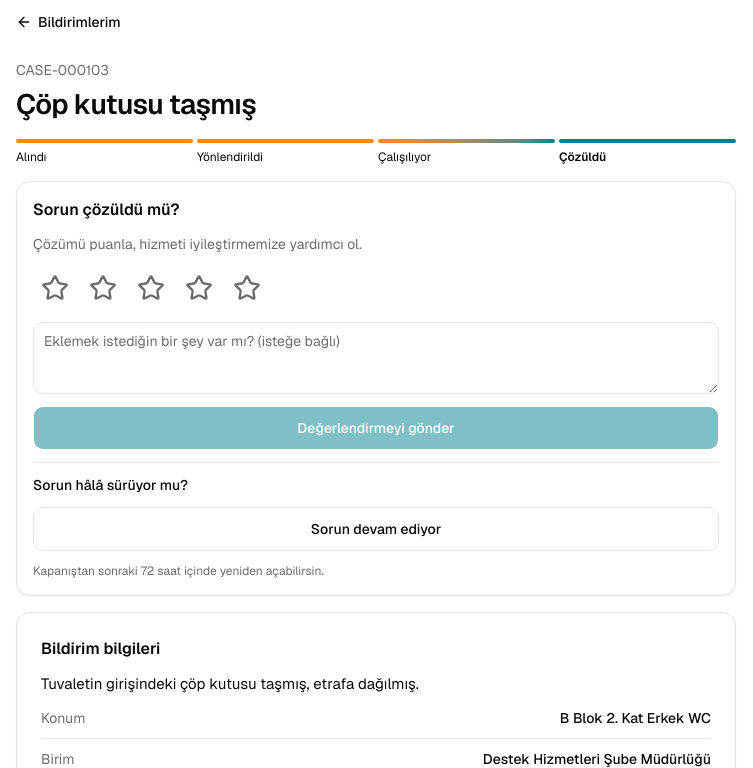
Test case: rating a closed case › sends the chosen stars and thanks the reporter
Expected: the button "Değerlendirmeyi gönder" is disabled, [33,406,719,450]
Click the radio button named "4 yıldız": (199,288) [185,274,213,302]
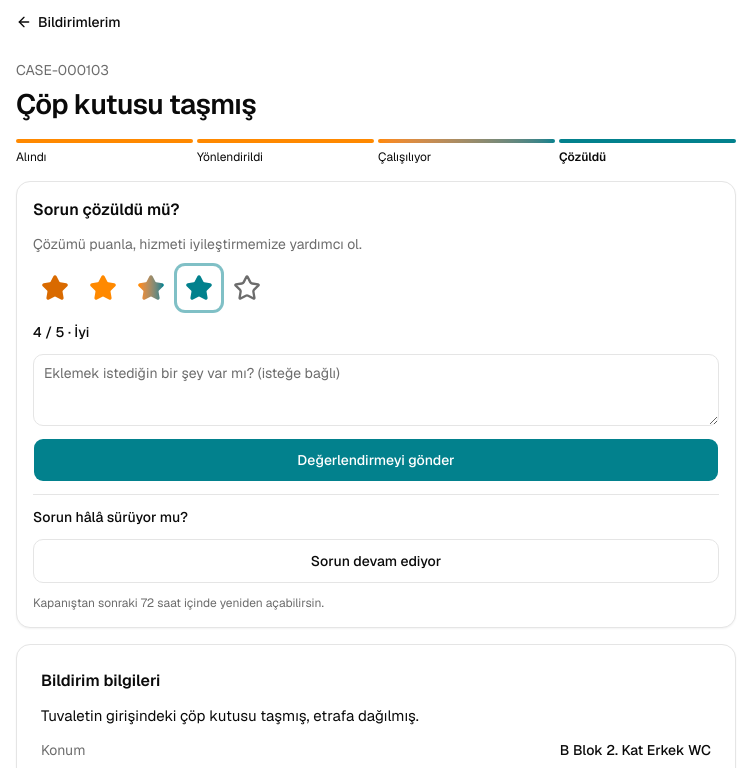
Expected: the text "4 / 5 · İyi" is shown, [33,323,89,341]
Click the button "Değerlendirmeyi gönder": (376,460) [33,438,719,482]
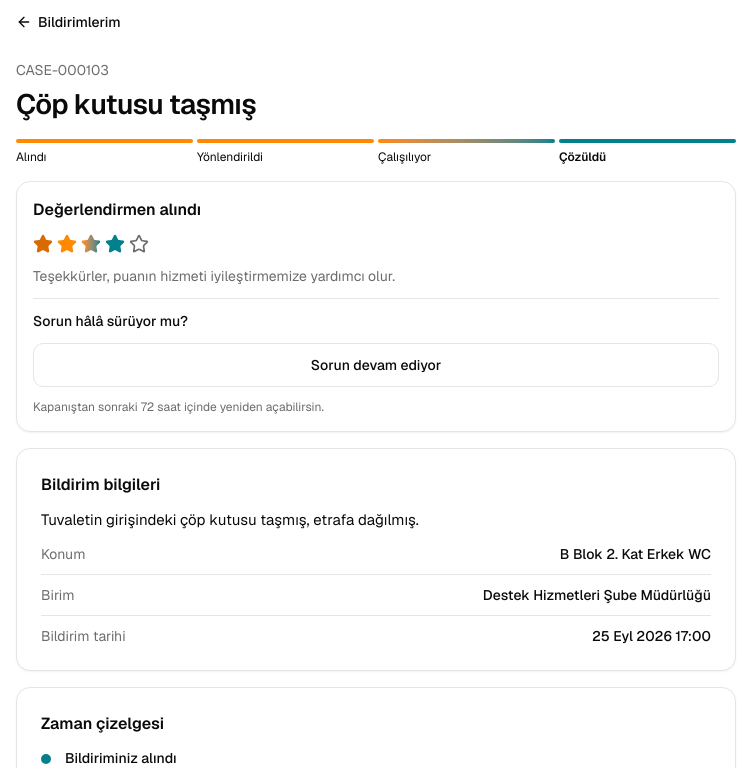
Expected: the heading "Değerlendirmen alındı" is shown, [33,199,201,220]
Expected: the picture named "5 üzerinden 4 yıldız" is shown, [33,234,149,254]
